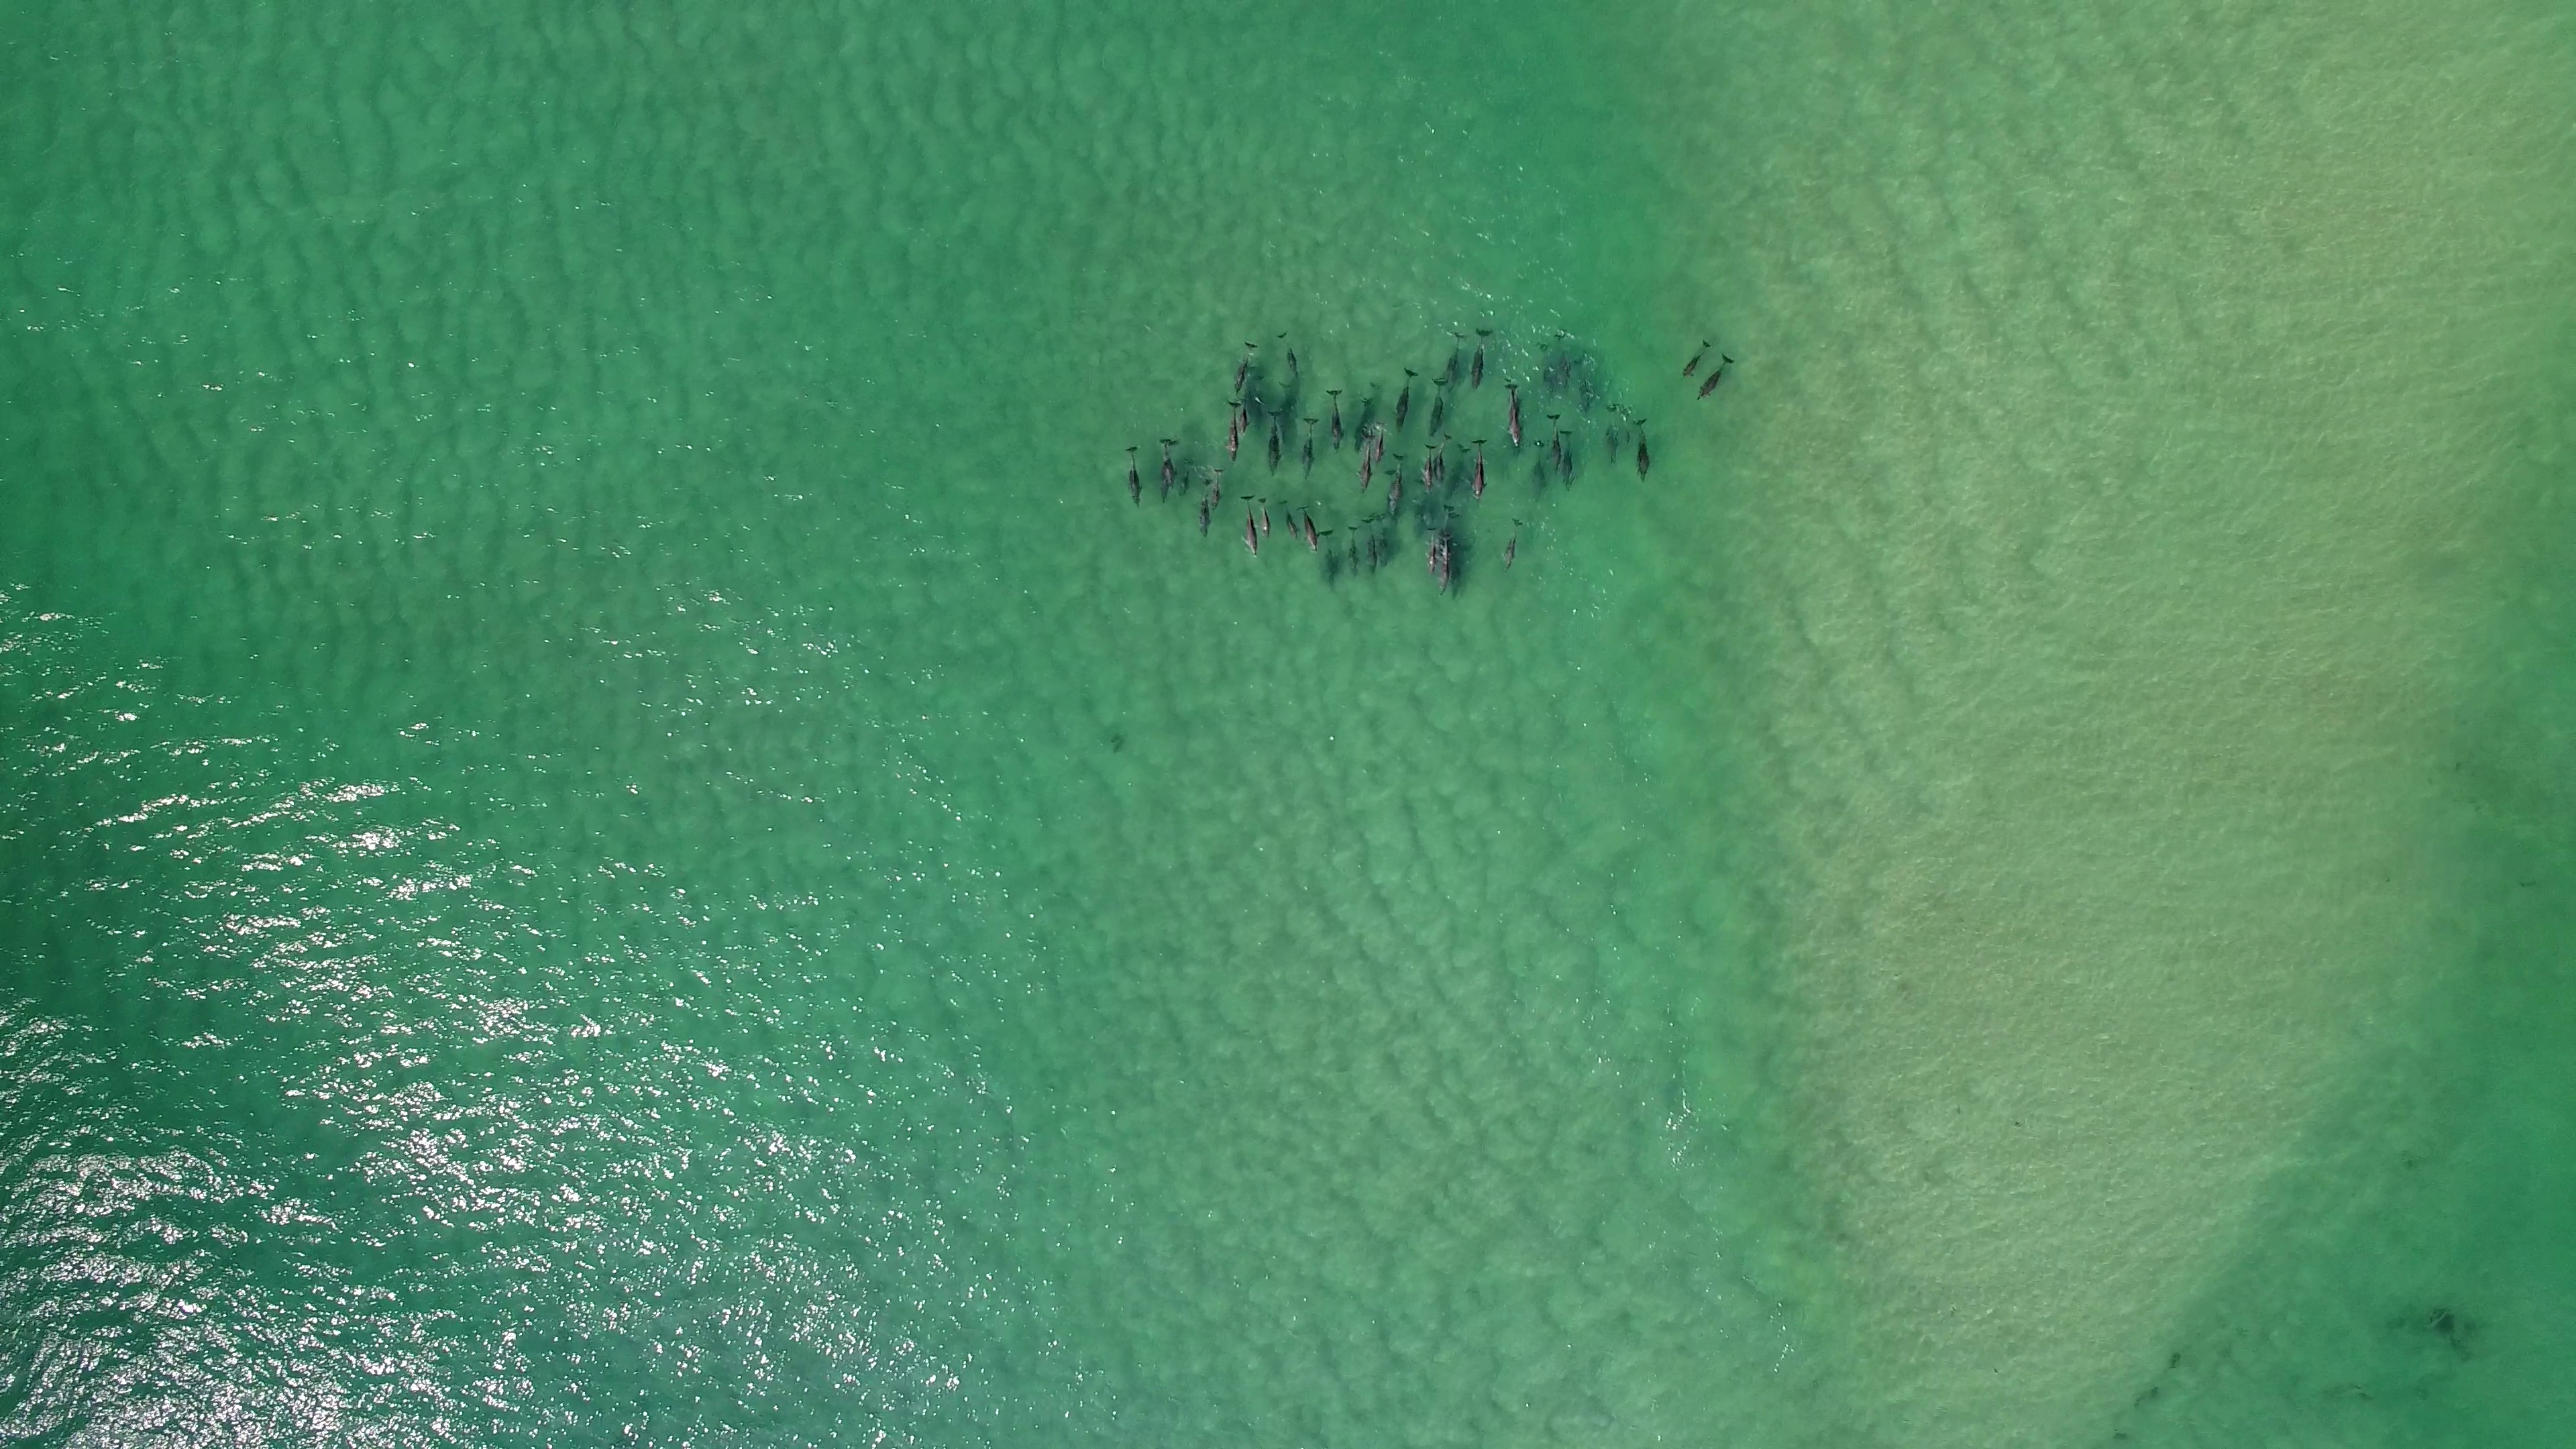dolphin: (1352, 380, 1385, 453), (1698, 350, 1736, 402), (1468, 326, 1495, 391), (1392, 364, 1415, 435), (1231, 338, 1258, 396), (1277, 329, 1307, 380), (1444, 442, 1468, 502), (1238, 494, 1260, 561), (1426, 373, 1449, 435), (1629, 418, 1651, 483), (1323, 387, 1345, 453), (1504, 379, 1523, 449), (1681, 336, 1713, 379), (1444, 327, 1465, 391), (1300, 414, 1318, 488), (1435, 502, 1456, 563), (1297, 506, 1322, 557), (1123, 446, 1143, 510), (1318, 531, 1339, 589), (1552, 329, 1573, 387), (1155, 437, 1173, 506), (1359, 517, 1378, 577), (1472, 433, 1488, 504), (1267, 410, 1283, 478), (1546, 412, 1564, 472), (1502, 522, 1523, 571), (1605, 402, 1621, 467), (1433, 432, 1453, 483), (1560, 428, 1576, 490), (1277, 499, 1300, 541), (1375, 513, 1392, 568), (1532, 439, 1548, 499), (1438, 536, 1453, 603), (1226, 400, 1240, 465), (1200, 476, 1214, 540), (1359, 430, 1373, 490), (1421, 441, 1435, 499), (1392, 451, 1408, 501), (1346, 527, 1361, 580), (1384, 469, 1398, 522), (1166, 439, 1180, 490), (1424, 525, 1438, 577), (1256, 497, 1272, 540), (1504, 517, 1522, 554), (1178, 456, 1194, 494), (1373, 419, 1385, 467), (1212, 467, 1224, 513), (1240, 396, 1249, 437)
